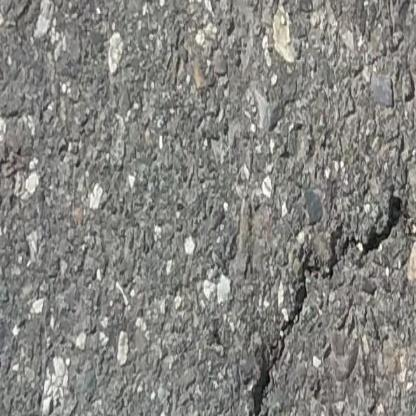Cracks: (244, 191, 416, 416)
